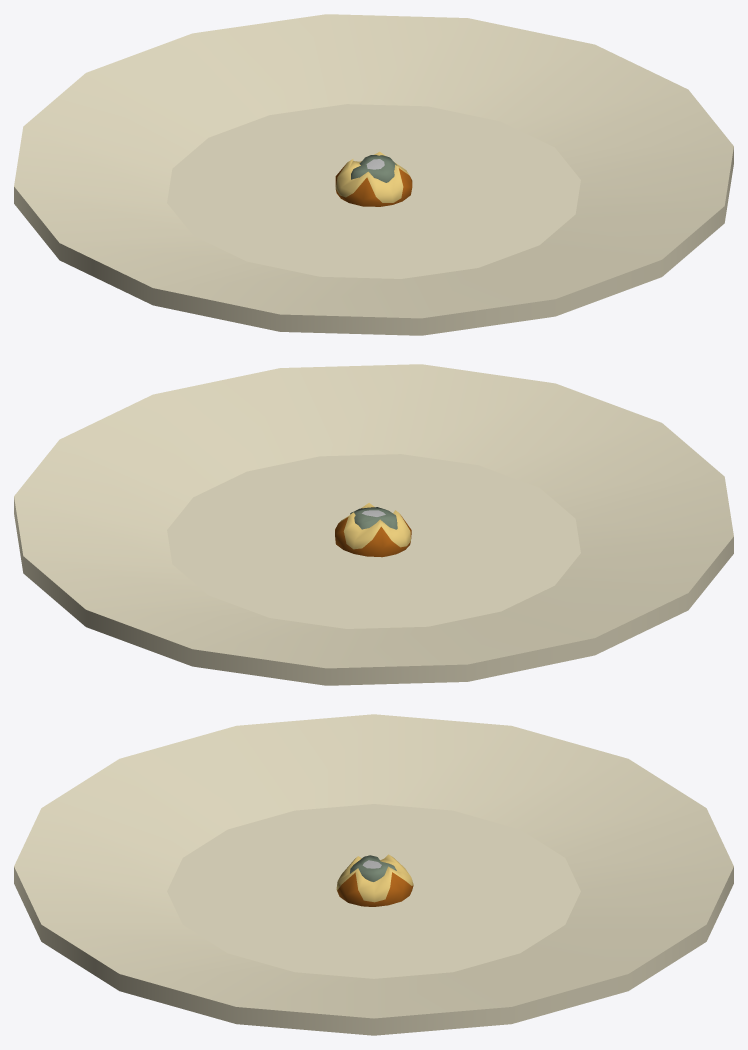
Rendered from SainteMaureRuined.fbx.
3 renders of one model, top to bottom at view 1: azimuth 30°, elevation 25°; view 2: azimuth 150°, elevation 25°; view 3: azimuth 270°, elevation 25°, orthographic.
Visible parts, largest first — view 1: Sainte_Maure_Ruined; view 2: Sainte_Maure_Ruined; view 3: Sainte_Maure_Ruined.
Part boxes in pixels (bbox=[...]): Sainte_Maure_Ruined: bbox=[14, 14, 733, 335]; Sainte_Maure_Ruined: bbox=[14, 364, 733, 685]; Sainte_Maure_Ruined: bbox=[14, 714, 733, 1035].
Size of the model in its own units: 0.6488 by 0.6488 by 0.0678.
